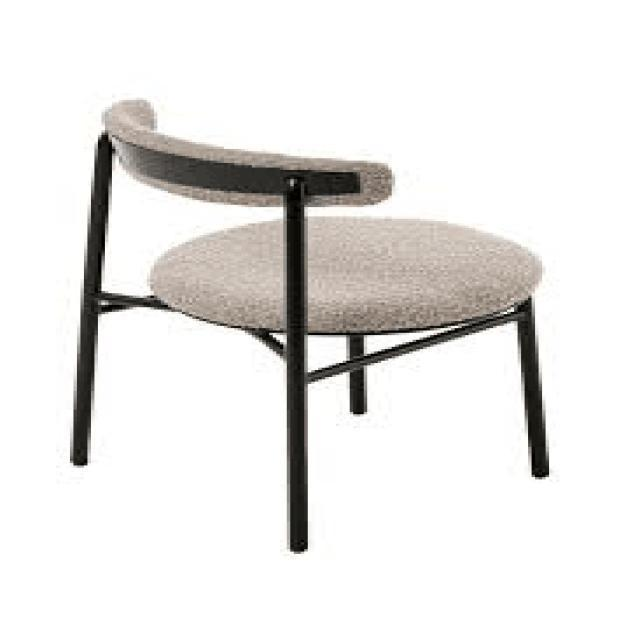chair: (62, 93, 560, 554), (92, 98, 544, 336)
